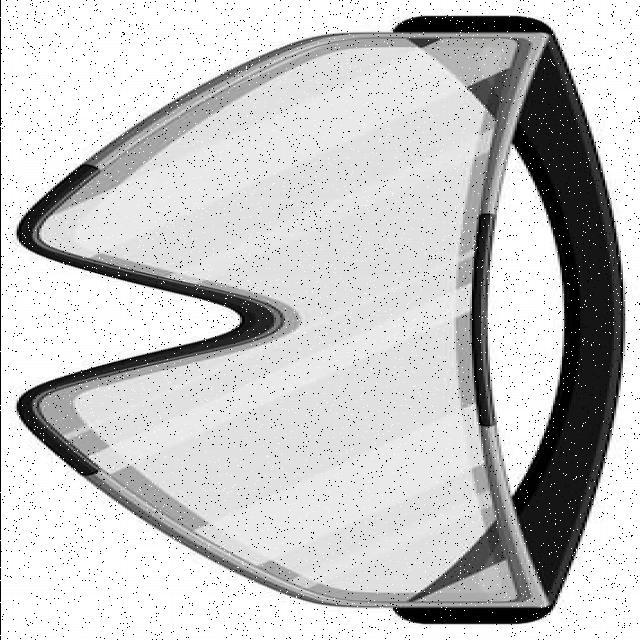Goggles: (0, 10, 636, 640)
